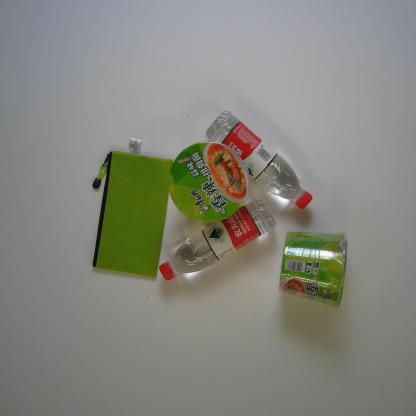Drink: (205, 110, 313, 210), (158, 196, 278, 281)
Instant Noodles: (168, 140, 250, 224), (278, 230, 349, 310)
Stationery: (91, 137, 174, 279)
